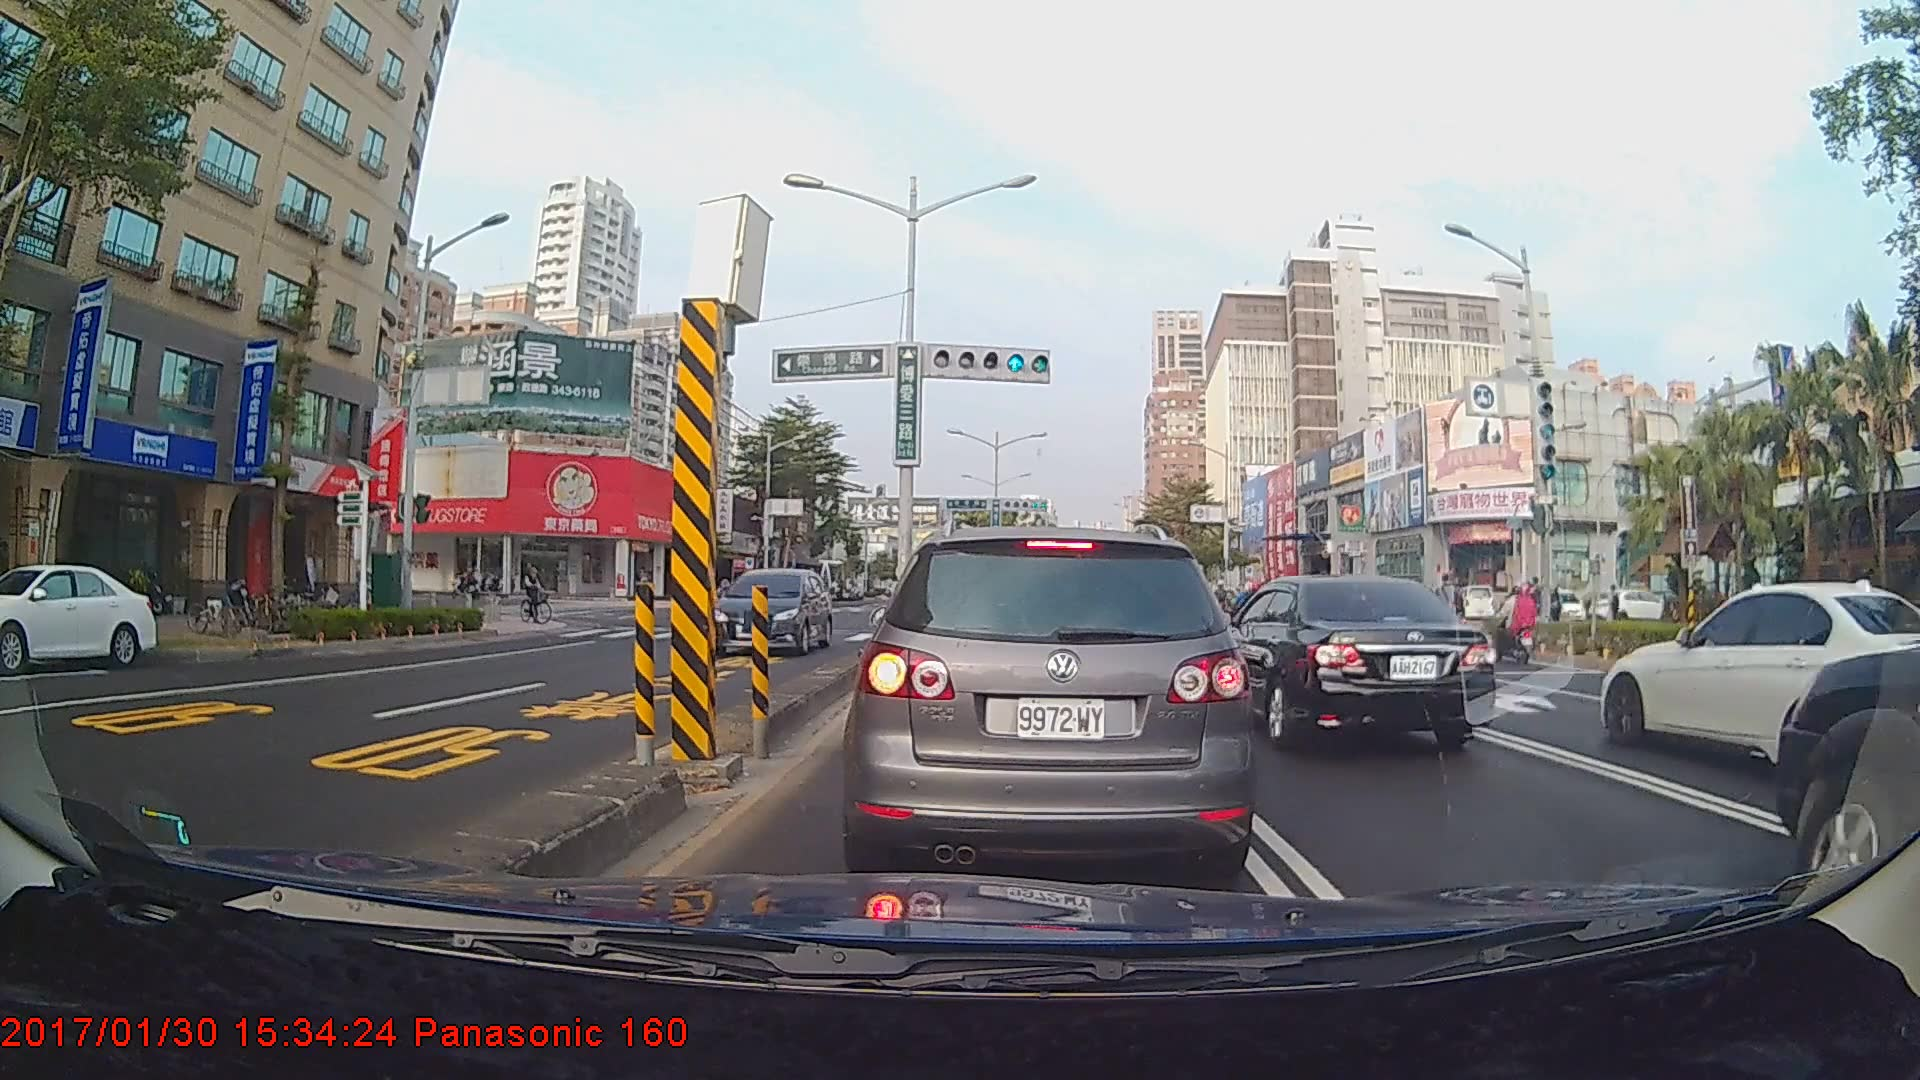pedestrian: (1602, 581, 1622, 640)
rider: (1485, 582, 1548, 668), (518, 559, 561, 629), (1243, 582, 1289, 644), (452, 563, 493, 603)
vehicle: (851, 526, 1248, 883), (1598, 583, 1918, 766), (1186, 572, 1496, 756), (0, 561, 157, 671), (706, 565, 834, 656)
